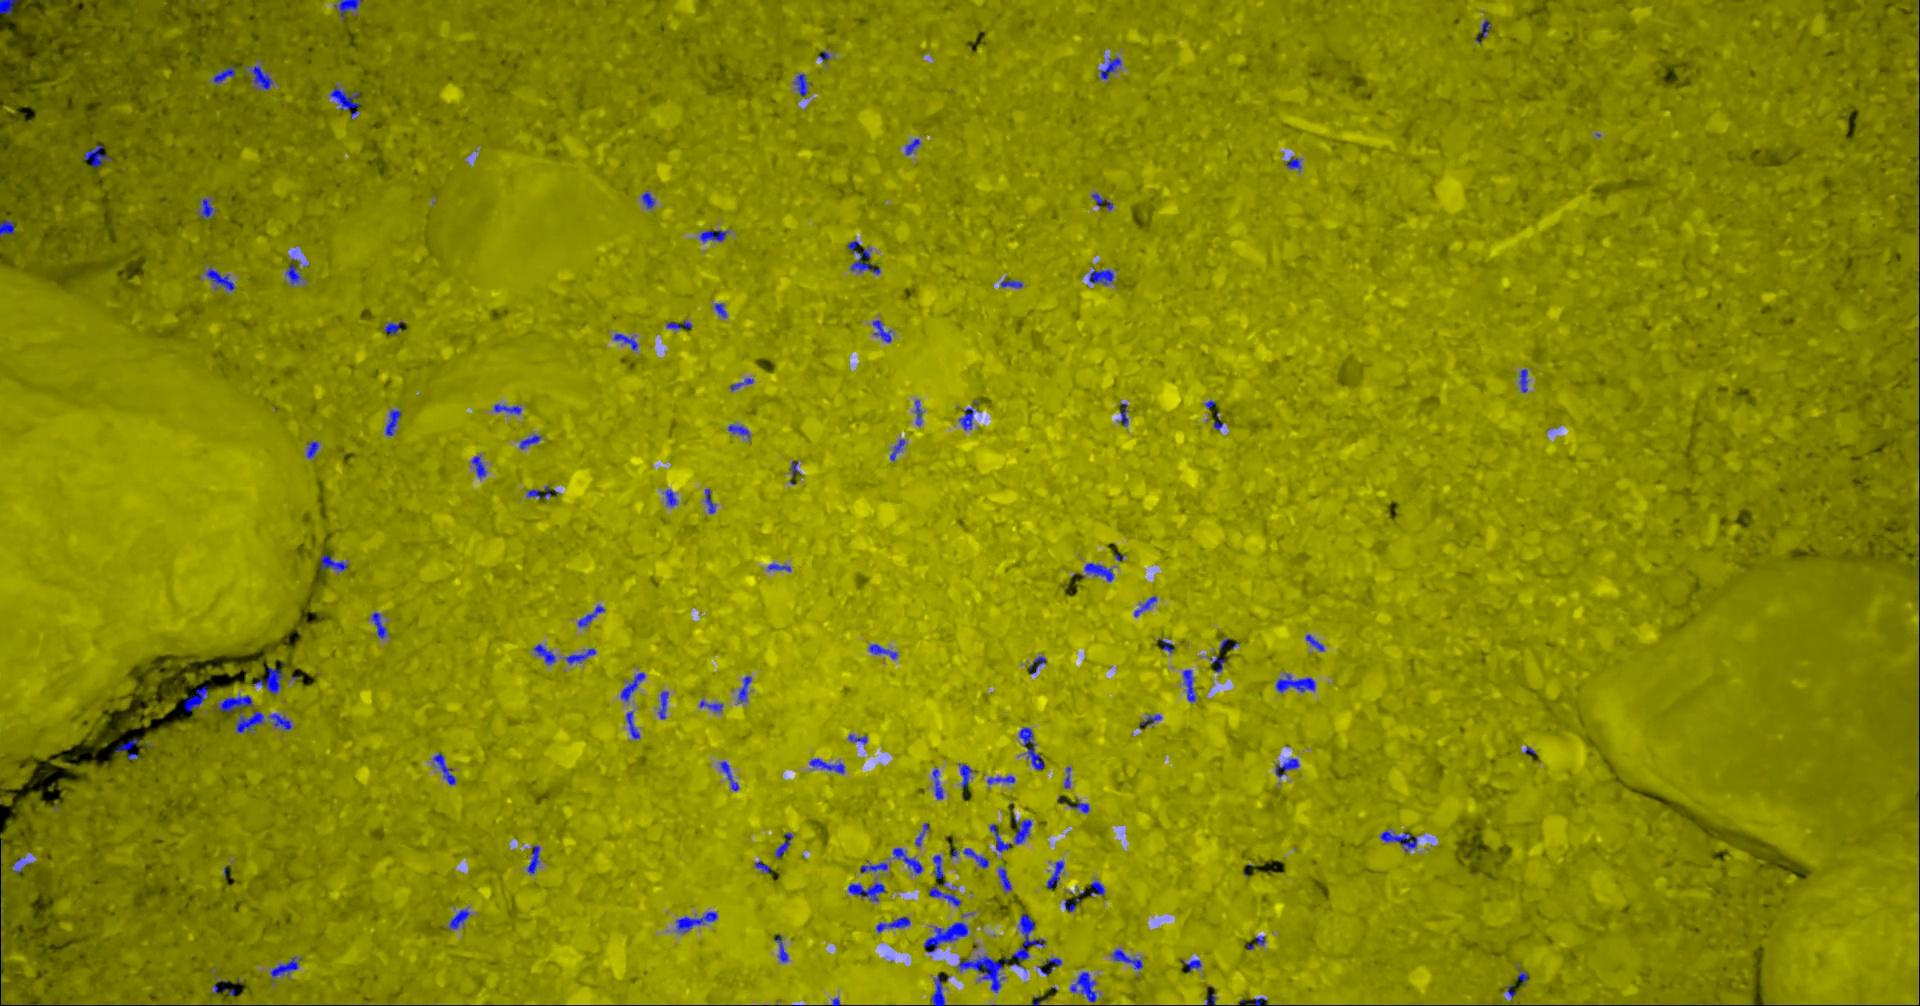ant: (1011, 913, 1048, 967), (957, 955, 1006, 992), (924, 921, 969, 951), (1020, 727, 1046, 770), (848, 240, 881, 274), (331, 86, 361, 119), (677, 911, 719, 934), (1070, 970, 1098, 1001), (255, 667, 287, 694), (1382, 829, 1418, 852), (894, 847, 924, 873), (1277, 673, 1317, 692), (622, 672, 648, 701), (434, 752, 457, 784), (850, 882, 888, 901), (206, 267, 236, 290), (216, 695, 254, 713), (270, 956, 301, 978), (185, 685, 210, 711), (85, 144, 113, 166), (930, 887, 963, 906), (579, 605, 606, 627), (1112, 949, 1144, 968), (237, 710, 265, 732), (251, 65, 276, 89), (1084, 561, 1115, 580), (721, 760, 740, 790), (990, 823, 1011, 851), (877, 916, 912, 932), (116, 737, 140, 760), (810, 758, 846, 774), (964, 847, 990, 868), (335, 0, 363, 19), (321, 554, 349, 572), (1101, 56, 1123, 79), (1135, 594, 1158, 616), (535, 643, 557, 664), (1048, 860, 1065, 887), (960, 406, 980, 429), (1015, 818, 1032, 843), (776, 832, 794, 857), (870, 643, 899, 658), (568, 648, 597, 663), (1183, 669, 1197, 701), (287, 258, 303, 285), (1090, 268, 1116, 285), (450, 908, 471, 929), (874, 319, 893, 342), (1277, 758, 1300, 777), (213, 65, 237, 83), (615, 333, 639, 351), (701, 229, 731, 243), (775, 934, 790, 962), (932, 974, 946, 1005), (739, 674, 753, 702), (627, 711, 641, 739), (387, 409, 403, 434), (373, 612, 389, 638), (795, 72, 811, 95), (270, 713, 293, 729), (933, 766, 945, 799), (472, 453, 488, 478), (959, 763, 974, 788), (916, 822, 931, 846), (1307, 633, 1326, 652), (1092, 193, 1114, 210), (528, 845, 541, 873), (999, 866, 1013, 890), (495, 403, 523, 414), (729, 424, 752, 438), (521, 434, 543, 448), (659, 691, 670, 719), (215, 981, 237, 995), (1030, 655, 1048, 673), (731, 377, 756, 390), (528, 485, 552, 498), (700, 699, 724, 711), (891, 438, 905, 460), (386, 320, 405, 335), (706, 488, 717, 513), (201, 198, 215, 218), (1, 218, 17, 236), (862, 862, 889, 873), (1, 0, 20, 14), (905, 138, 921, 155), (1288, 155, 1303, 171), (1211, 655, 1227, 672), (643, 191, 657, 208), (988, 775, 1016, 784), (1142, 714, 1163, 725), (935, 854, 945, 878), (1183, 959, 1203, 972), (916, 399, 924, 426), (668, 320, 693, 329), (1248, 936, 1266, 949), (309, 439, 320, 459), (1520, 368, 1529, 392), (1092, 880, 1106, 895), (1241, 997, 1269, 1005), (665, 489, 678, 506), (1070, 801, 1091, 812), (770, 563, 792, 572), (1482, 18, 1492, 37), (756, 861, 772, 873), (1121, 401, 1129, 426), (715, 304, 728, 318), (1001, 279, 1023, 287), (850, 734, 869, 743), (1065, 766, 1072, 788)
